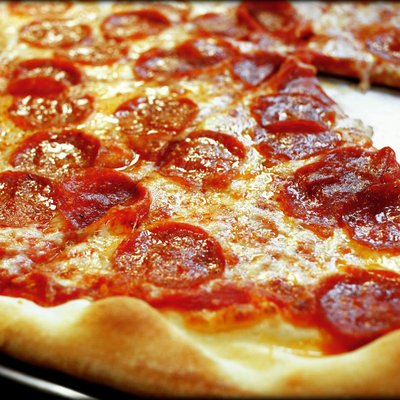sandwich: (1, 4, 400, 397)
